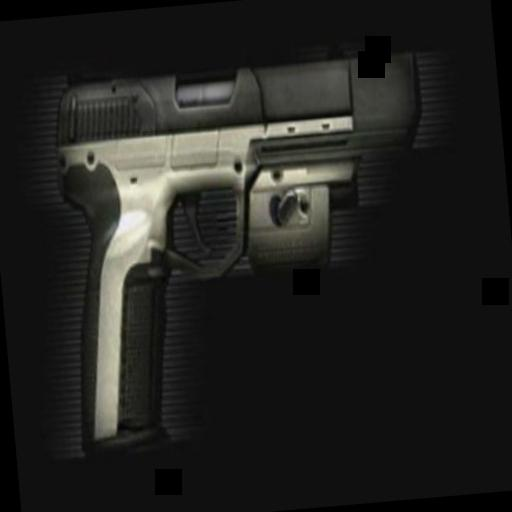Handgun: (42, 30, 452, 468)
